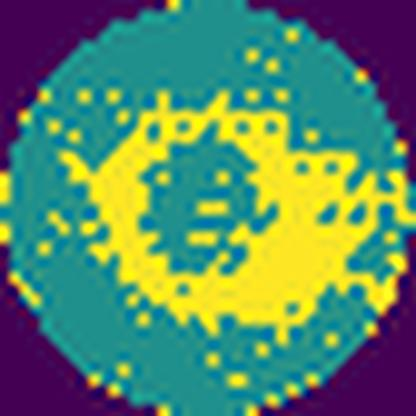Donut: (82, 110, 378, 335)
